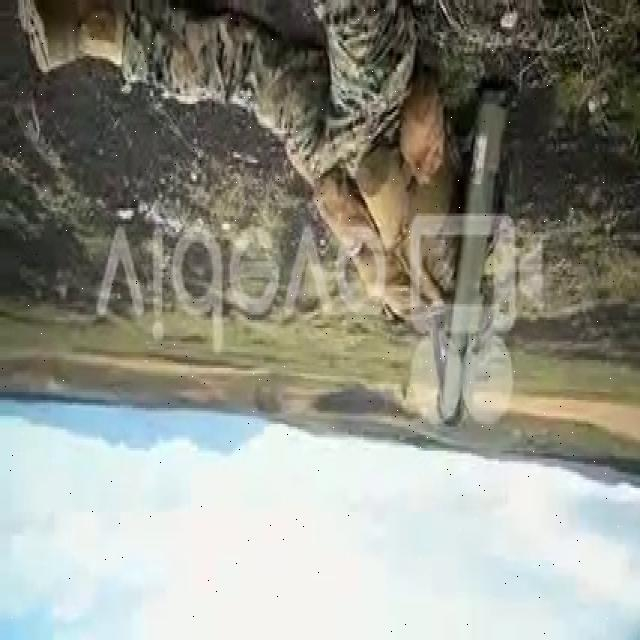bazooka: (432, 73, 524, 438)
